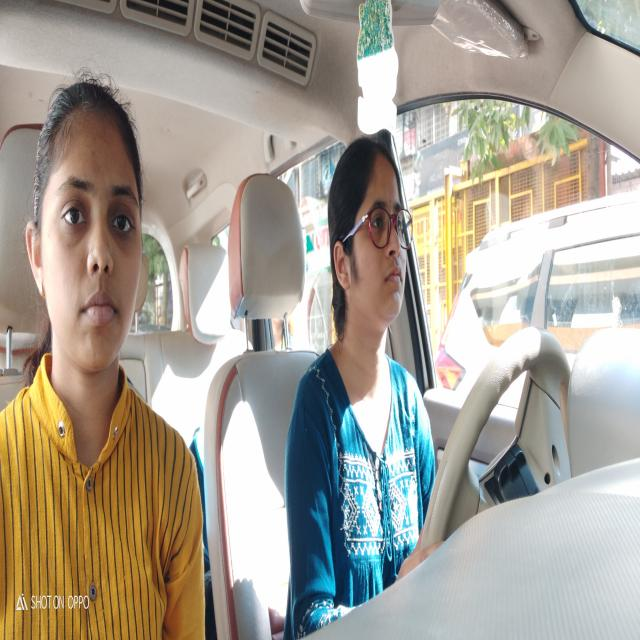person: (22, 68, 147, 378), (327, 127, 416, 342)
